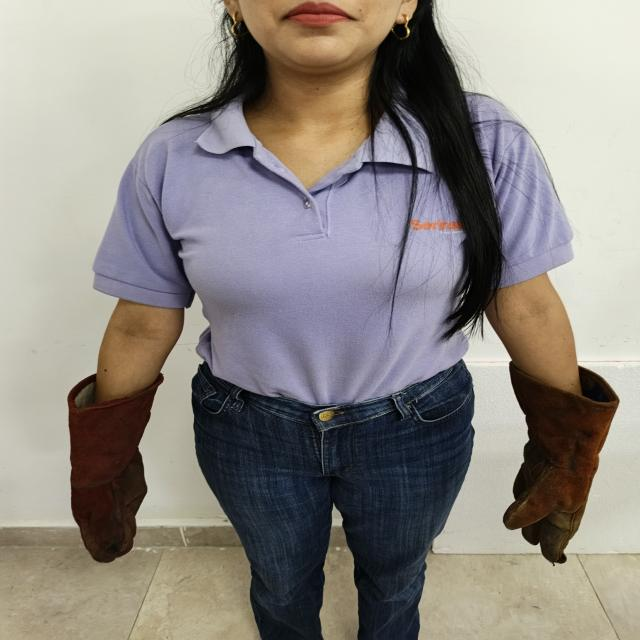gloves: (503, 362, 619, 564), (68, 373, 164, 562)
